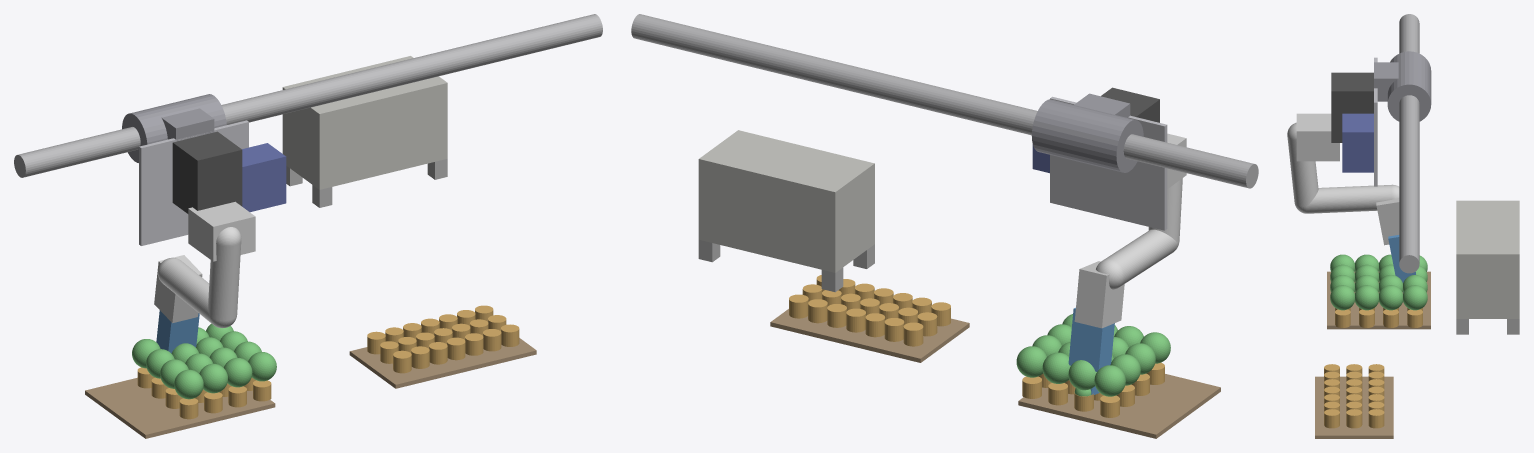
Rendered from pod-grab-reach.glb.
The picture shows the model from 3 angles, left to right: view 1: azimuth 30°, elevation 25°; view 2: azimuth 150°, elevation 25°; view 3: azimuth 270°, elevation 25°; orthographic projection. The views are drawn at different scales.
Parts seen in each view (by area): view 1: station_box, track_pipe, arm_base_foot, plate, tray, store_shelf, battery, upper_arm, shoulder_housing, sleeve, forearm, hand_arm (+6 smaller); view 2: station_box, track_pipe, plate, sleeve, tray, store_shelf, forearm, wrist_housing, gripper_body, arm_base_foot, upper_arm, lettuce_D0 (+4 smaller); view 3: station_box, track_pipe, store_shelf, sleeve, arm_base_foot, forearm, battery, shoulder_housing, tray, upper_arm, wrist_housing, hand_arm (+21 smaller).
Part boxes in pixels (x1,y1,x2,y2): station_box: (282, 56, 447, 189); track_pipe: (14, 14, 602, 177); arm_base_foot: (172, 131, 242, 213); plate: (139, 120, 248, 245); tray: (85, 377, 275, 438); store_shelf: (349, 338, 536, 388); battery: (242, 143, 286, 212); upper_arm: (208, 227, 241, 328); shoulder_housing: (188, 201, 255, 261); sleeve: (122, 94, 226, 162); forearm: (157, 257, 236, 327); hand_arm: (161, 108, 214, 141); station_box: (698, 130, 874, 272); track_pipe: (631, 14, 1258, 188); plate: (1050, 96, 1167, 230); sleeve: (1031, 99, 1143, 172); tray: (1018, 374, 1220, 438); store_shelf: (770, 309, 969, 362); forearm: (1096, 229, 1179, 289); wrist_housing: (1074, 261, 1124, 328); gripper_body: (1068, 307, 1114, 371); arm_base_foot: (1101, 87, 1159, 122); upper_arm: (1148, 178, 1182, 249); lettuce_D0: (1094, 365, 1125, 396); station_box: (1456, 200, 1519, 318); track_pipe: (1399, 14, 1419, 273); store_shelf: (1315, 376, 1393, 438); sleeve: (1387, 51, 1431, 121); arm_base_foot: (1331, 72, 1373, 142); forearm: (1294, 184, 1399, 213); battery: (1342, 113, 1373, 172); shoulder_housing: (1296, 113, 1339, 161); tray: (1327, 271, 1430, 329); upper_arm: (1287, 122, 1318, 213); wrist_housing: (1376, 198, 1399, 245); hand_arm: (1374, 62, 1398, 101).
Bounding box in the file's own units: 0.9 × 0.4225 × 0.3666.
